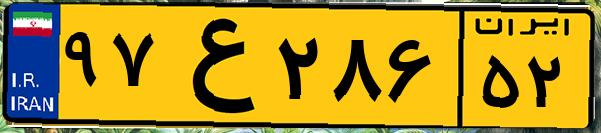2: (270, 28, 330, 110), (525, 38, 570, 115)
5: (475, 38, 525, 113)
6: (385, 28, 445, 110)
7: (110, 28, 158, 98)
8: (330, 28, 385, 110)
9: (57, 26, 110, 100)
ع: (158, 12, 270, 120)
